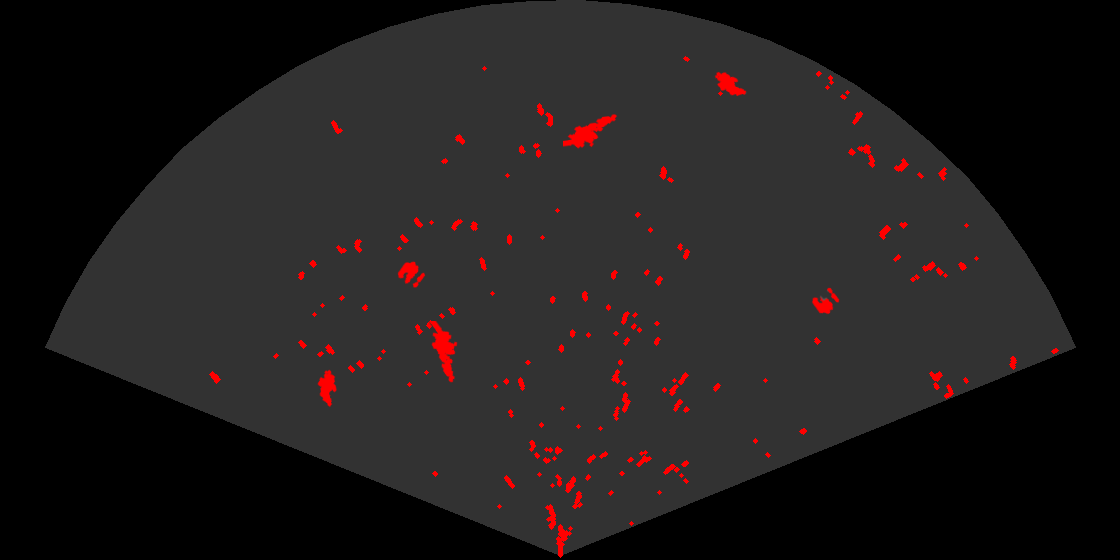AUV: (713, 70, 748, 98), (316, 368, 338, 409)
ball: (810, 286, 841, 316), (396, 260, 427, 289)
frogman: (563, 113, 619, 150), (428, 321, 459, 384)
